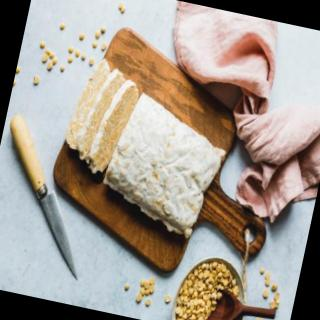Tempe: (48, 53, 241, 243)
